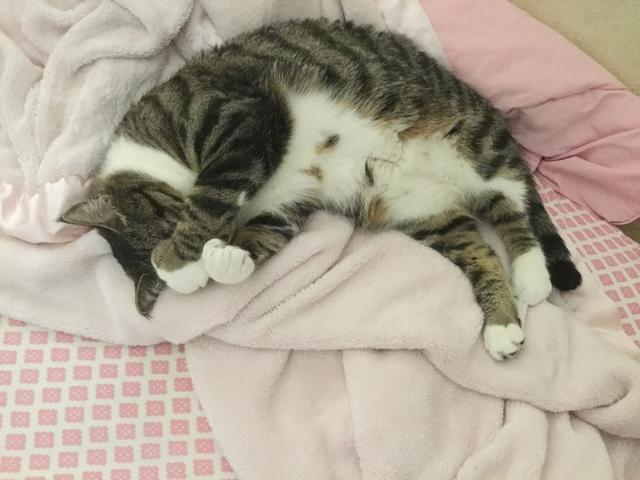playdoh: (56, 13, 581, 365)
